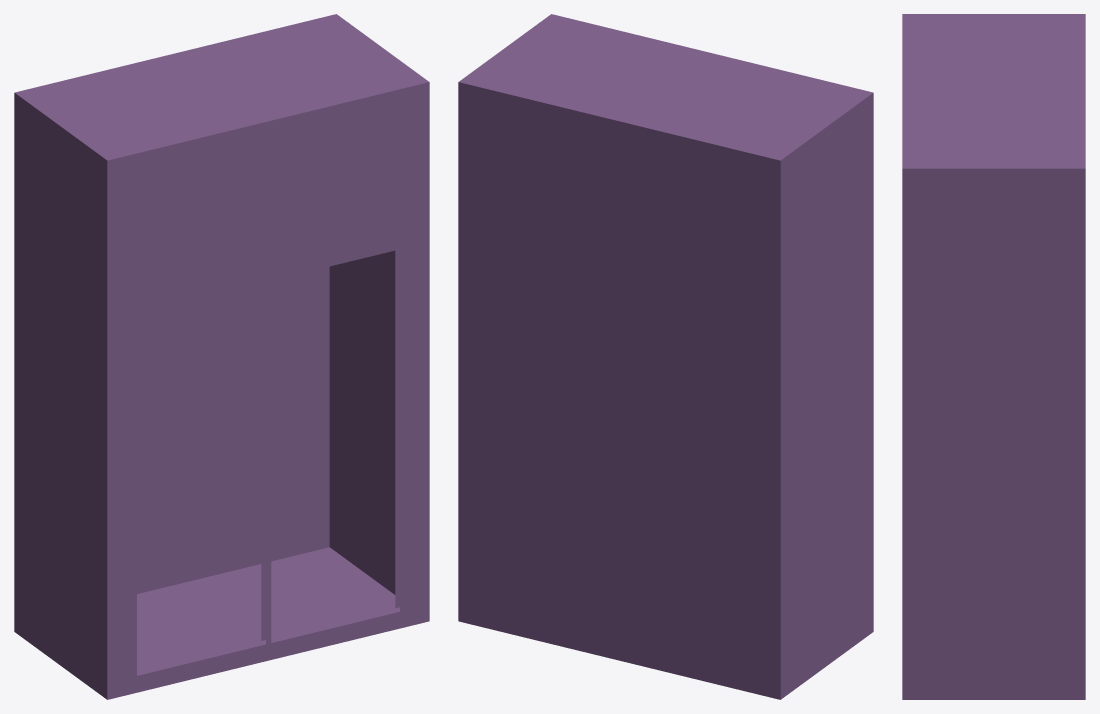
The model's file is SM_room_1x2.fbx.
3 views of the same model, side by side, from view 1: azimuth 30°, elevation 25°; view 2: azimuth 150°, elevation 25°; view 3: azimuth 270°, elevation 25° (orthographic).
Visible parts, largest first — view 1: elevator_wall_mesh, ceiling_mesh, floor_mesh; view 2: elevator_wall_mesh, ceiling_mesh, floor_mesh; view 3: elevator_wall_mesh, ceiling_mesh, floor_mesh.
Boxes of the visible parts, x1,y1,x2,y2 form: elevator_wall_mesh: (14, 99, 429, 682); ceiling_mesh: (14, 14, 429, 177); floor_mesh: (14, 547, 429, 699); elevator_wall_mesh: (458, 99, 873, 682); ceiling_mesh: (458, 14, 873, 177); floor_mesh: (458, 604, 873, 699); elevator_wall_mesh: (902, 185, 1085, 683); ceiling_mesh: (902, 14, 1085, 185); floor_mesh: (902, 683, 1085, 699).
Bounding box in the file's own units: 2 × 3.2 × 1.
